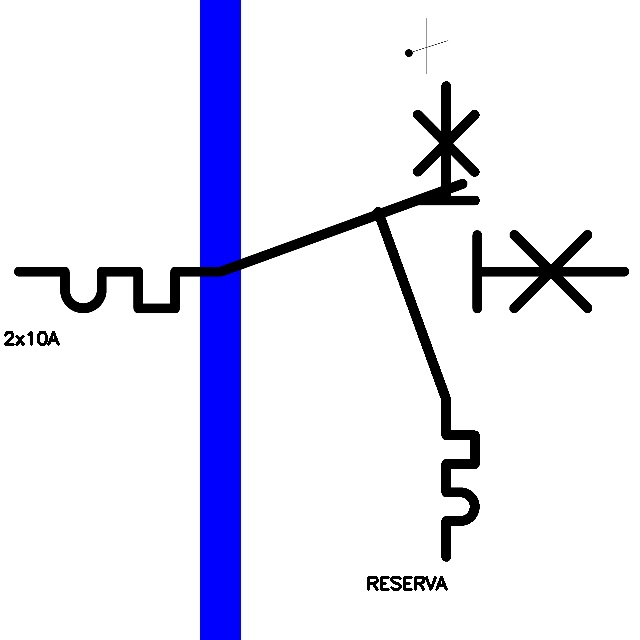interruptor_termomagnetico: (3, 168, 639, 324), (366, 74, 487, 569)
